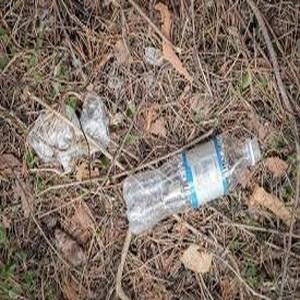Plastic: (123, 132, 265, 233)
